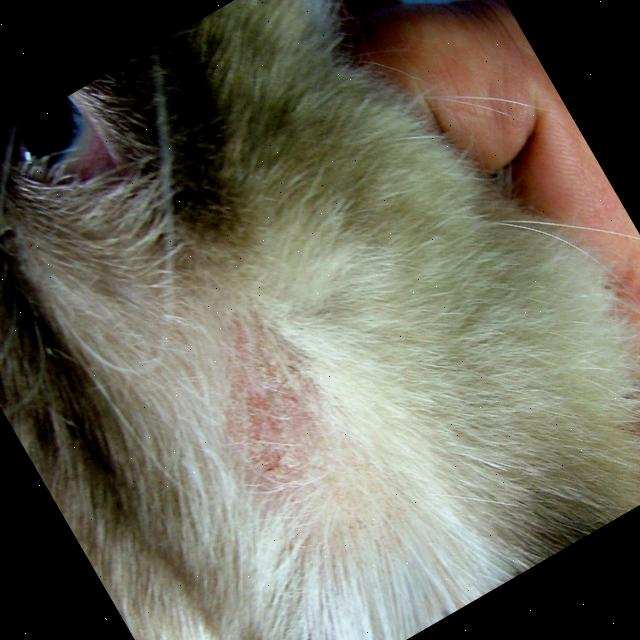cat-ringworm: (183, 307, 372, 508)
